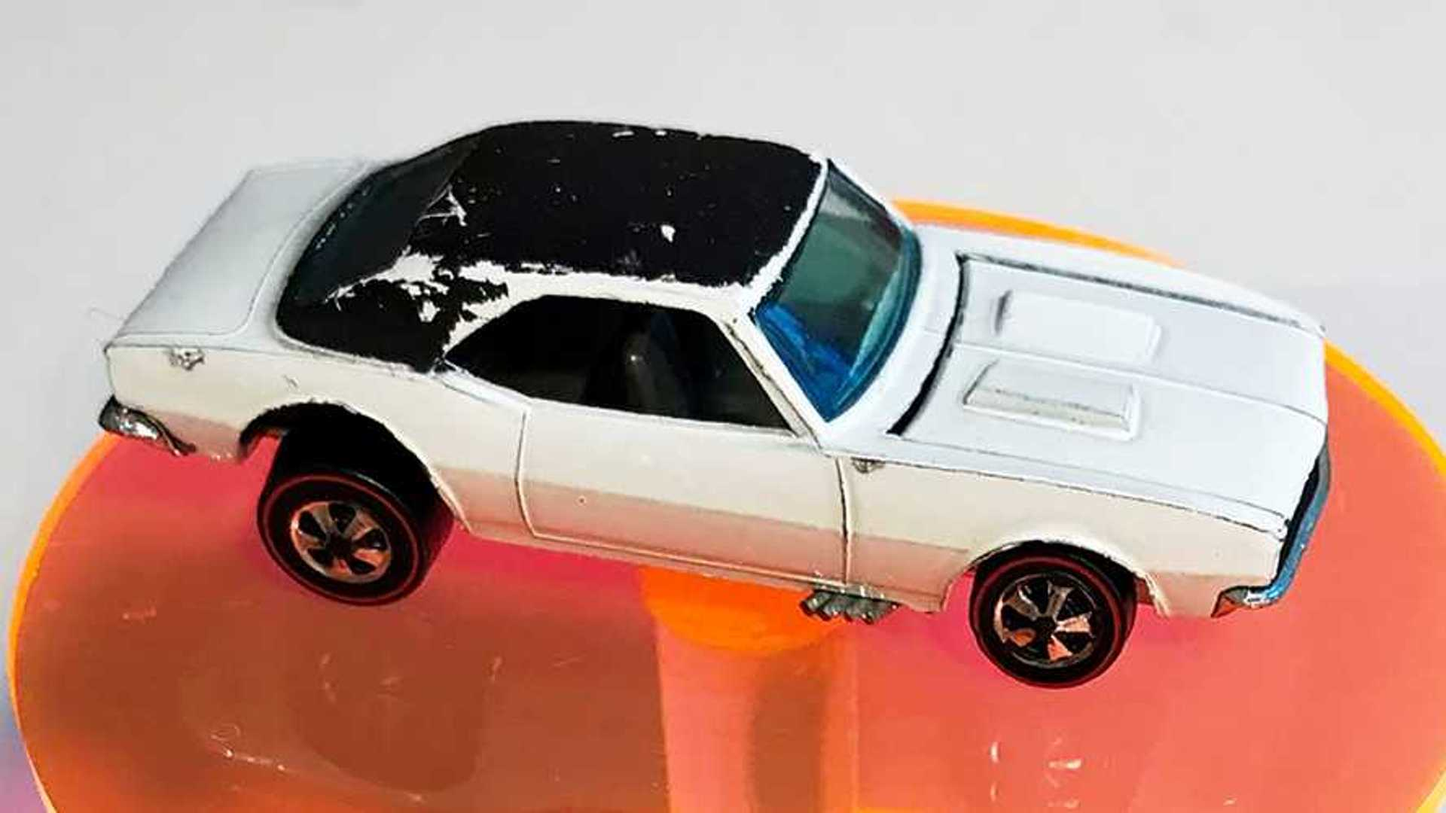Car: (76, 65, 1361, 722)
